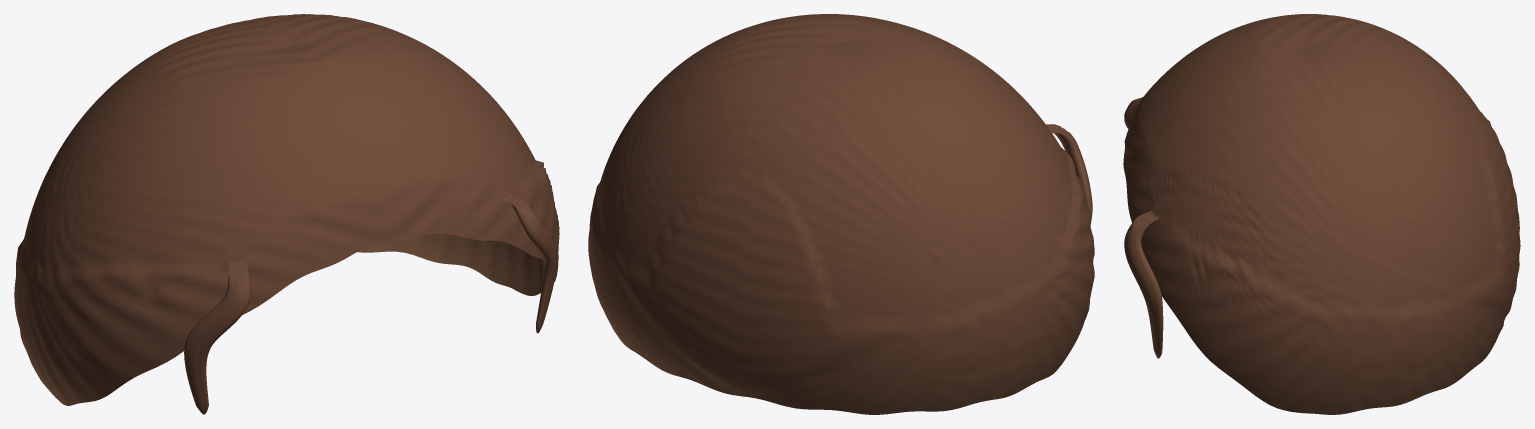
File: Ombre-3772e6a4ef8e253-hair.glb
3 views of the same model, side by side, from view 1: azimuth 30°, elevation 25°; view 2: azimuth 150°, elevation 25°; view 3: azimuth 270°, elevation 25° (orthographic). The views are drawn at different scales.
Visible parts, largest first — view 1: 226 hair / Hair / chestnut226.002; view 2: 226 hair / Hair / chestnut226.002; view 3: 226 hair / Hair / chestnut226.002.
Boxes of the visible parts, <box> form: 226 hair / Hair / chestnut226.002: <box>14,14,559,414</box>; 226 hair / Hair / chestnut226.002: <box>588,14,1094,414</box>; 226 hair / Hair / chestnut226.002: <box>1123,14,1520,414</box>.
Size of the model in its own units: 0.9981 by 0.5988 by 0.7846.
Materials: 1 (1 with a texture image).
